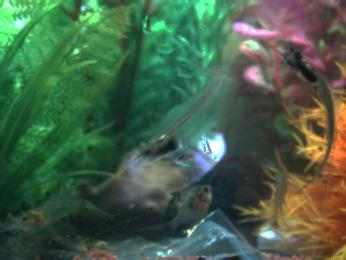X-ray fish: (159, 182, 214, 234), (271, 167, 291, 218)
glassfish: (133, 65, 229, 165), (274, 42, 338, 185)
siberian prawn: (1, 192, 108, 238), (49, 233, 167, 260)
